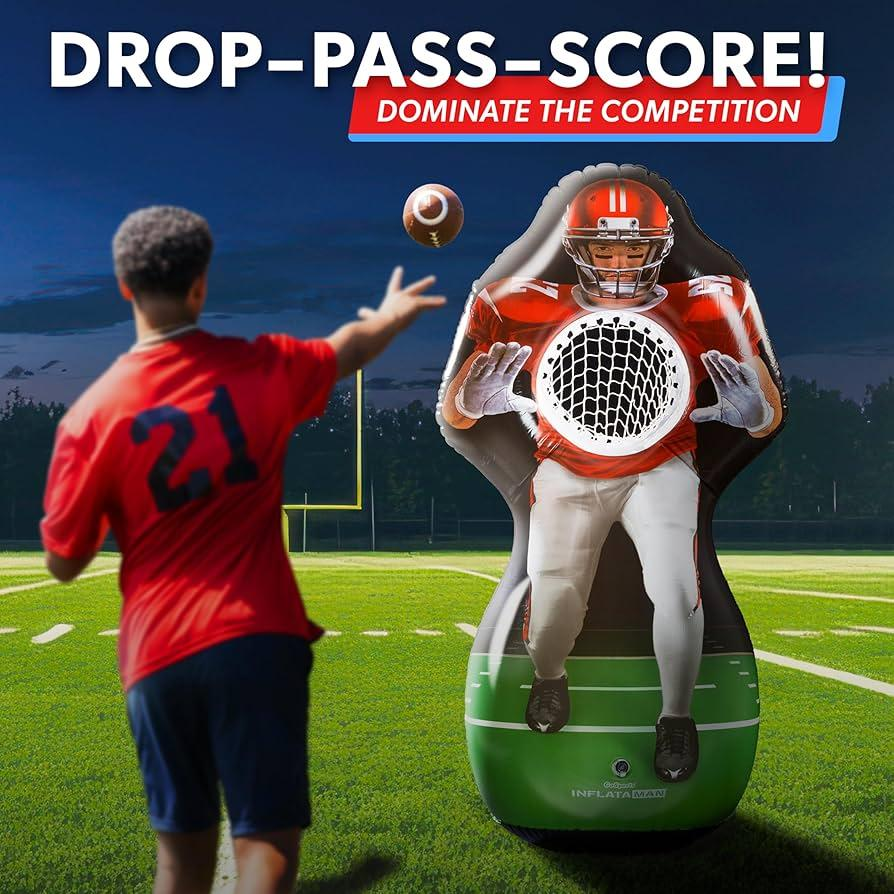americanFootball: (403, 183, 466, 251)
